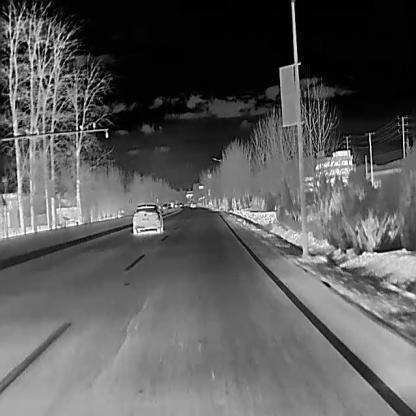car: (131, 201, 163, 235), (189, 201, 196, 208), (162, 203, 167, 209), (170, 201, 174, 207), (167, 202, 170, 208), (179, 203, 183, 206), (174, 204, 178, 207)
